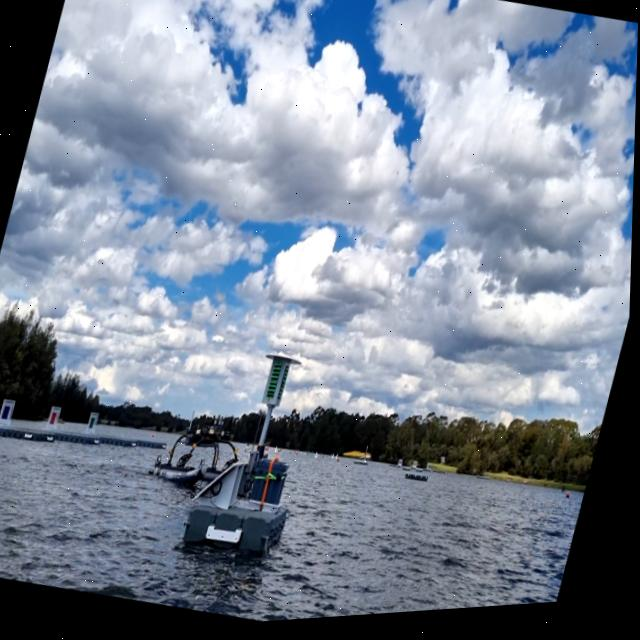led: (266, 365, 286, 407)
